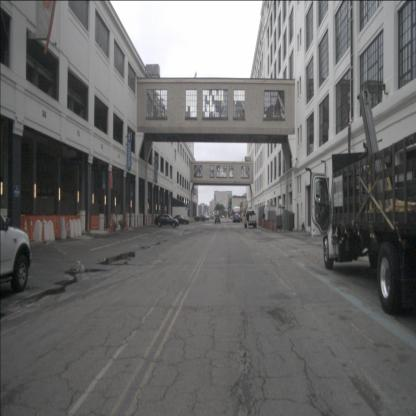human-pedestrian-adult: (246, 210, 250, 231), (262, 211, 265, 228)
movable_object-barrier: (15, 215, 40, 240), (38, 215, 60, 238), (58, 215, 78, 237), (90, 215, 104, 230)
movable_object-trafficcone: (28, 218, 35, 242), (23, 217, 29, 243), (41, 212, 46, 243), (53, 213, 58, 240), (57, 214, 62, 239), (66, 214, 71, 239), (86, 210, 90, 233), (109, 213, 113, 233), (125, 213, 128, 230), (112, 212, 114, 232)
vehicle-car: (0, 210, 32, 292), (154, 214, 179, 228), (171, 215, 190, 225), (194, 215, 206, 222), (233, 212, 241, 222), (198, 214, 209, 221), (214, 214, 220, 224)
vehicle-truck: (310, 131, 416, 316), (244, 210, 257, 228)
